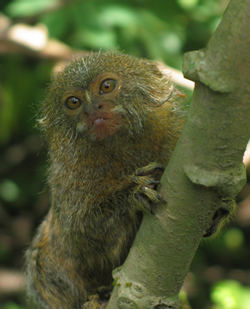PygmyMarmoset: (27, 46, 187, 289)
